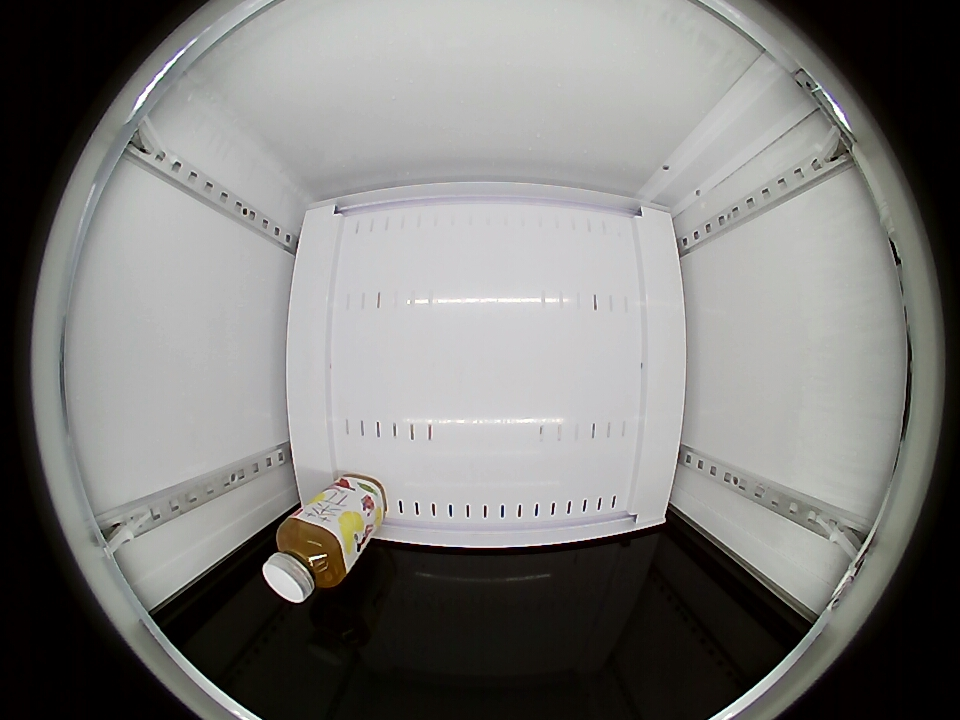chapai: (262, 514, 352, 603)
